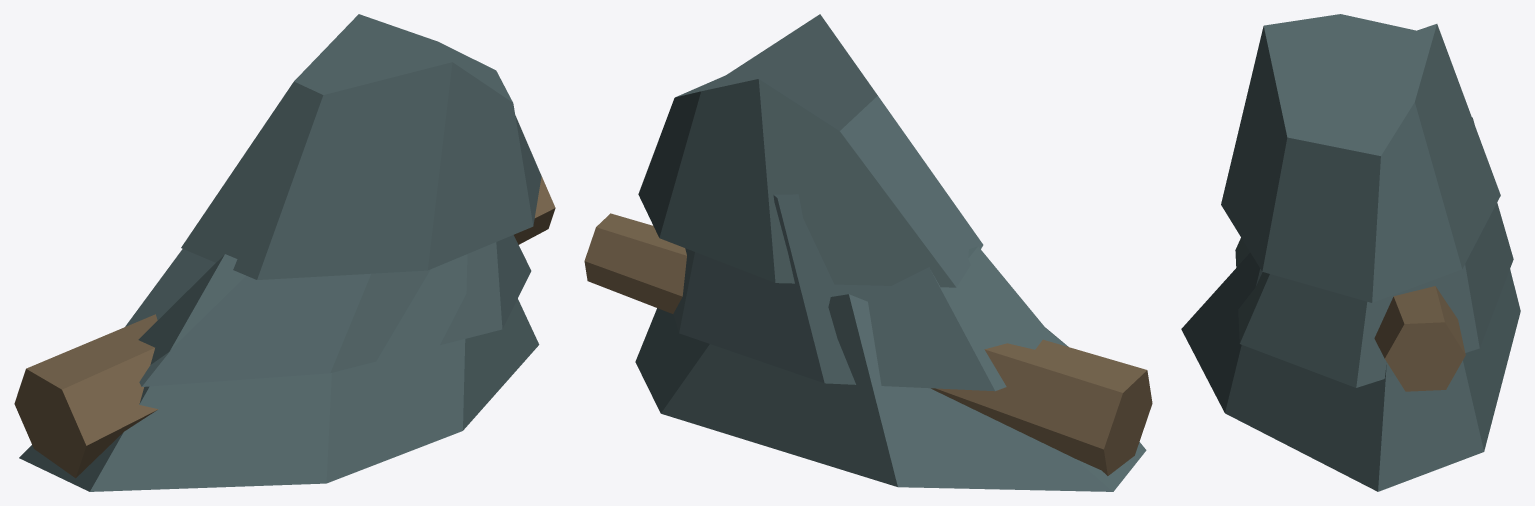
Rendered from map-boundaries-v5__ridge_08.glb.
3 renders of one model, left to right at view 1: azimuth 30°, elevation 25°; view 2: azimuth 150°, elevation 25°; view 3: azimuth 270°, elevation 25°, orthographic. The views are drawn at different scales.
Visible parts, largest first — view 1: ridge_08; view 2: ridge_08; view 3: ridge_08.
Part boxes in pixels (x1=…): ridge_08: x1=14, y1=14, x2=555, y2=491; ridge_08: x1=584, y1=14, x2=1152, y2=491; ridge_08: x1=1181, y1=14, x2=1520, y2=491.
Size of the model in its own units: 1.49 by 0.9547 by 0.7504.
